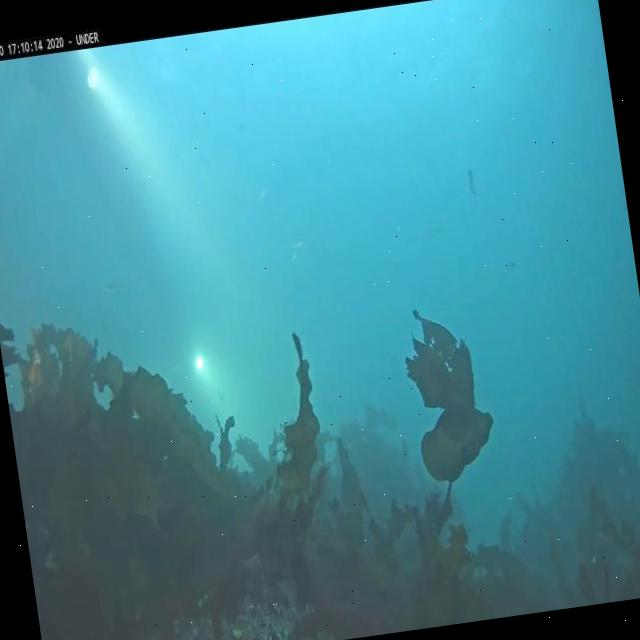fish: (466, 166, 478, 197)
